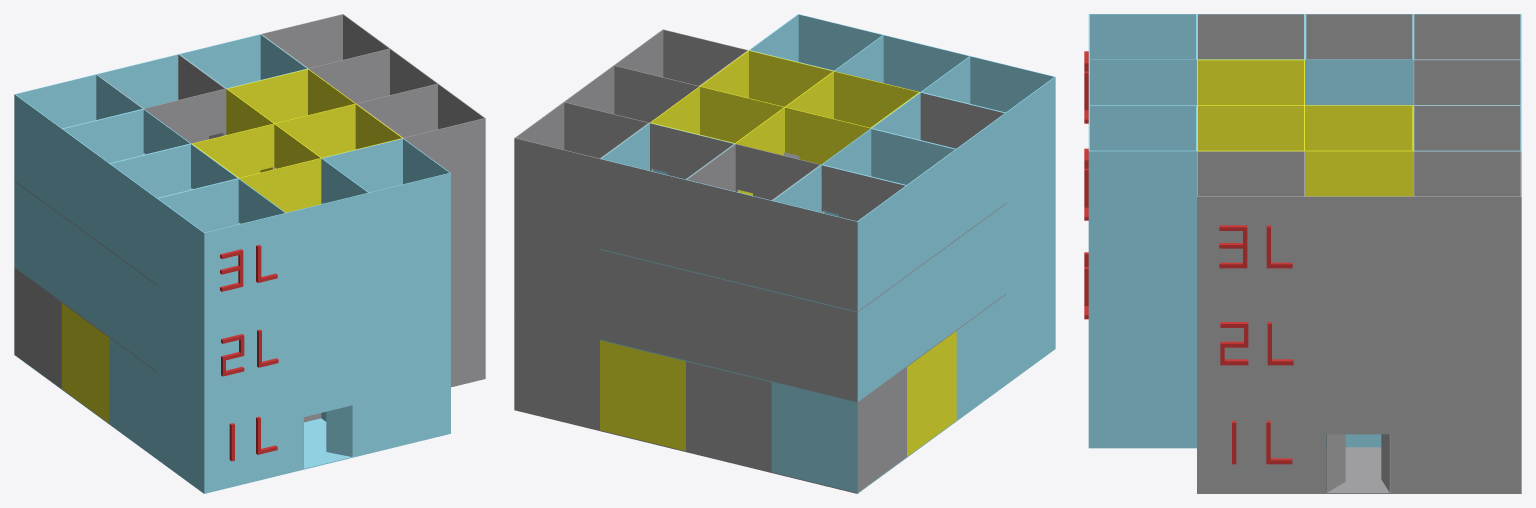
File: 第十组.glb
The picture shows the model from 3 angles, left to right: view 1: azimuth 30°, elevation 25°; view 2: azimuth 150°, elevation 25°; view 3: azimuth 270°, elevation 25°; orthographic projection. The views are drawn at different scales.
Bounding box in the file's own units: 0.0202 × 0.0151 × 0.0202.
